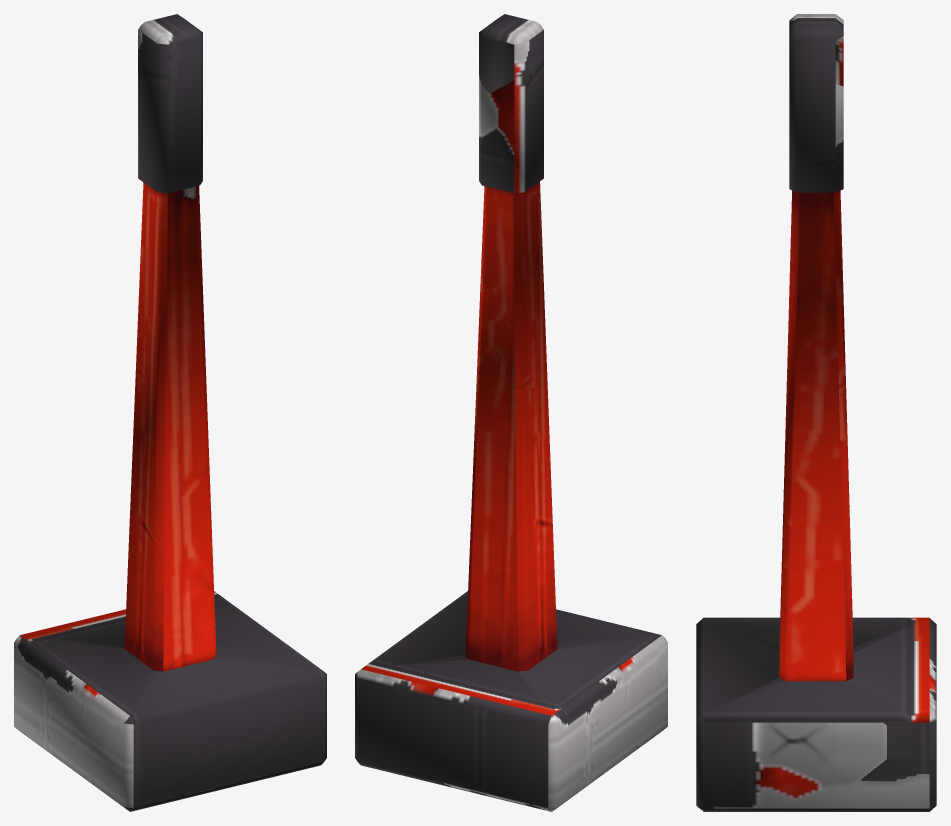
Rendered from checkpoint_LOD0.fbx.
3 renders of one model, left to right at view 1: azimuth 30°, elevation 25°; view 2: azimuth 150°, elevation 25°; view 3: azimuth 270°, elevation 25°, orthographic. The views are drawn at different scales.
Visible parts, largest first — view 1: checkpoint_LOD0; view 2: checkpoint_LOD0; view 3: checkpoint_LOD0.
Boxes of the visible parts, x1,y1,x2,y2 form: checkpoint_LOD0: (14, 14, 326, 811); checkpoint_LOD0: (355, 14, 667, 811); checkpoint_LOD0: (696, 14, 936, 811).
Bounding box in the file's own units: 69.08 × 236 × 69.08.
